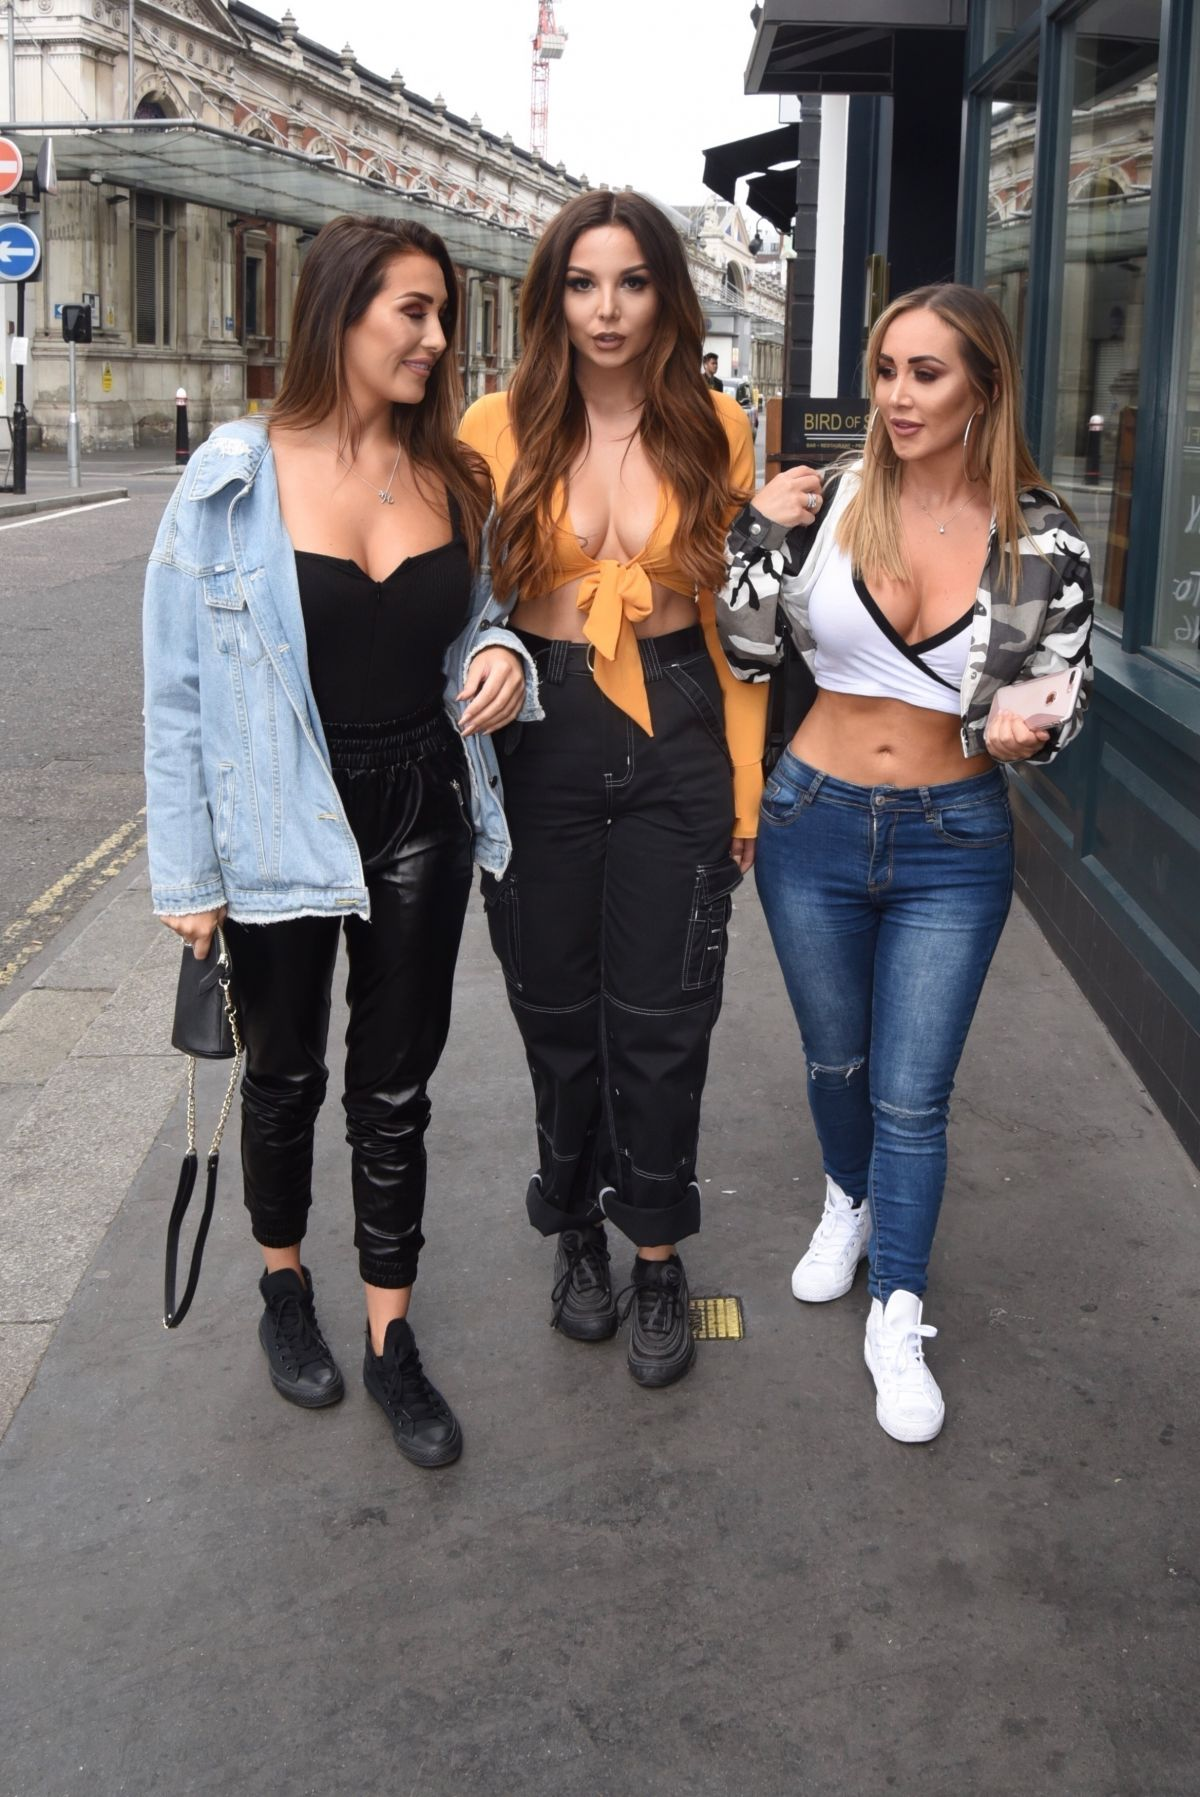Person: (107, 204, 578, 1483), (736, 262, 1125, 1465), (442, 180, 772, 1392)
